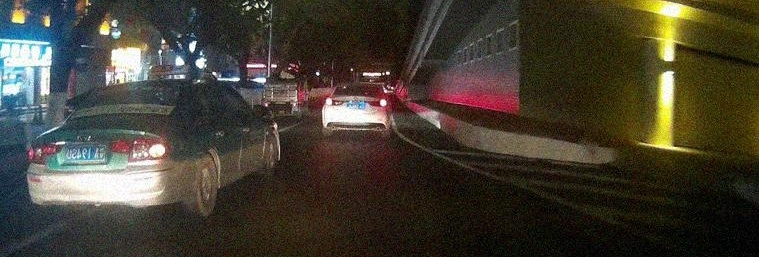L_light: (28, 142, 63, 164), (325, 97, 343, 105)
R_light: (128, 136, 173, 163), (368, 99, 388, 107)
T_light: (132, 87, 148, 93), (355, 86, 362, 88)
night-no: (322, 82, 389, 139)
night-right: (26, 80, 201, 219)
